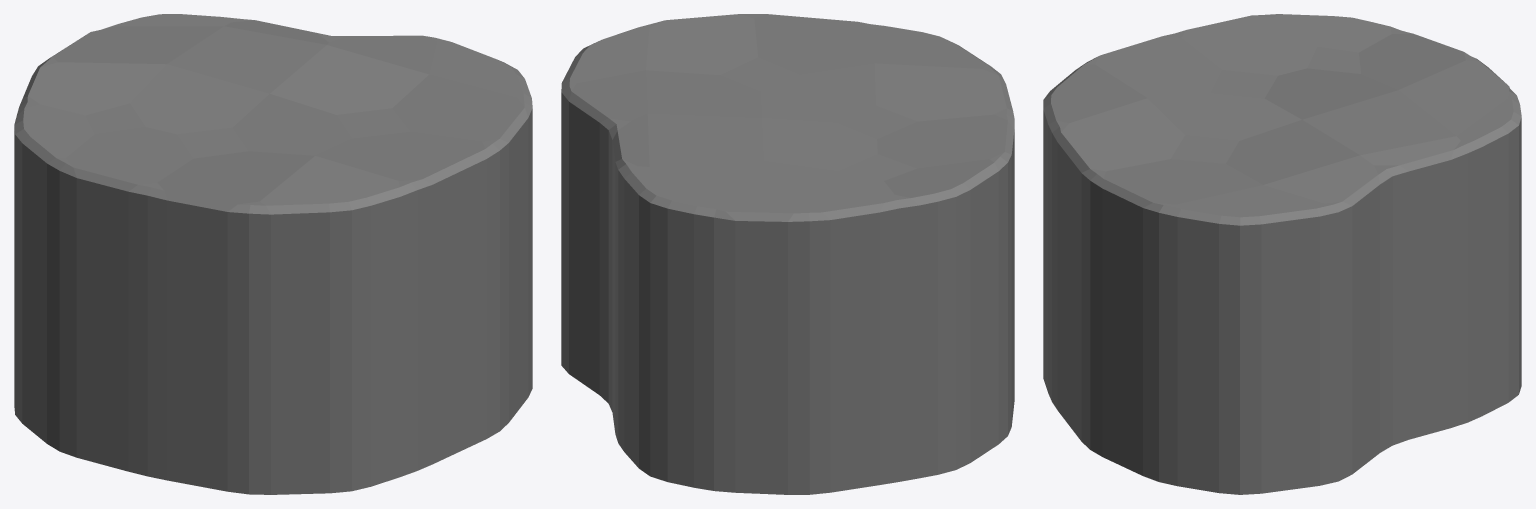
Rendered from PathStone_4.fbx.
The picture shows the model from 3 angles, left to right: view 1: azimuth 30°, elevation 25°; view 2: azimuth 150°, elevation 25°; view 3: azimuth 270°, elevation 25°; orthographic projection. The views are drawn at different scales.
Visible parts, largest first — view 1: PathStone_4; view 2: PathStone_4; view 3: PathStone_4.
Boxes of the visible parts, box(x1,y1,x2,y2) form: PathStone_4: box(14, 14, 532, 494); PathStone_4: box(561, 14, 1014, 494); PathStone_4: box(1043, 14, 1521, 494).
Bounding box in the file's own units: 1.64 × 1.02 × 1.58.
